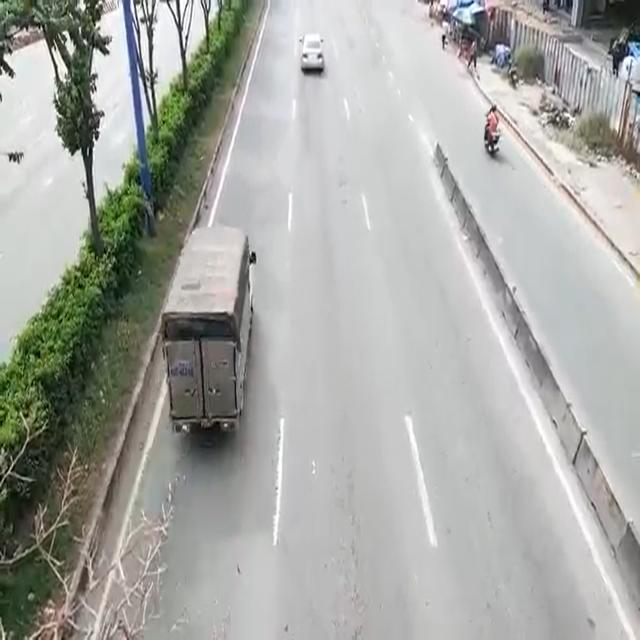car: (302, 34, 324, 74)
truck: (166, 221, 250, 444)
